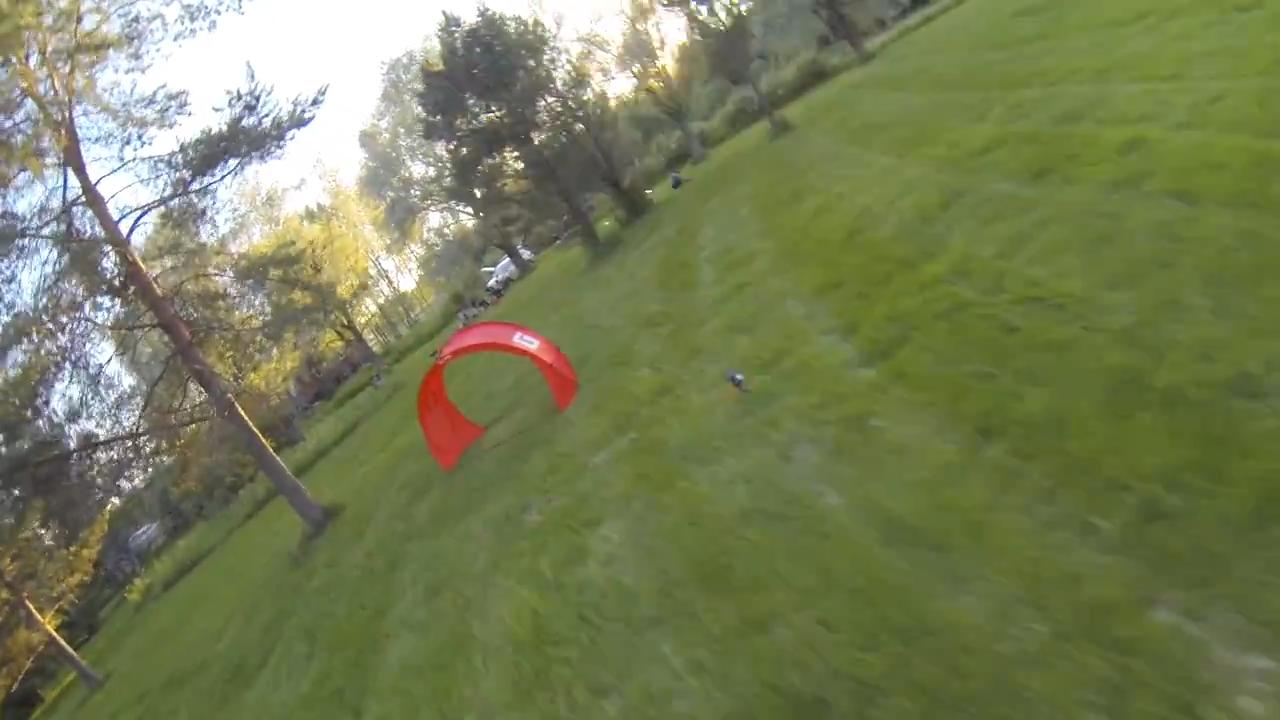gate: (415, 322, 583, 478)
